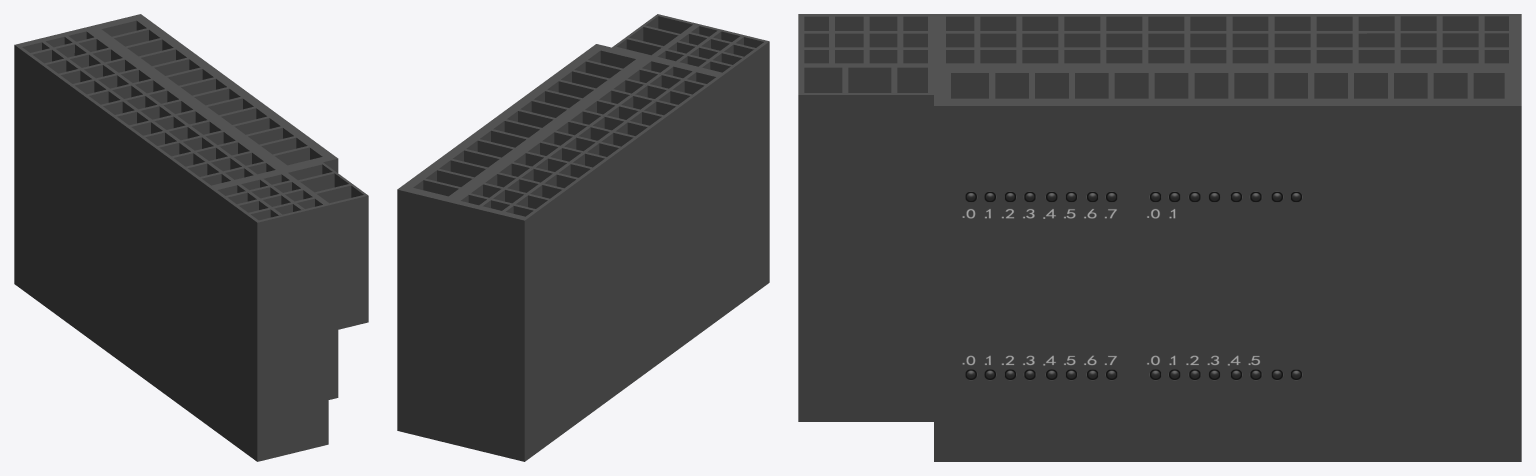
3 renders of one model, left to right at view 1: azimuth 30°, elevation 25°; view 2: azimuth 150°, elevation 25°; view 3: azimuth 270°, elevation 25°, orthographic. The views are drawn at different scales.
Visible parts, largest first — view 1: Io; view 2: Io; view 3: Io.
Boxes of the visible parts, x1,y1,x2,y2 form: Io: (14, 14, 368, 461); Io: (397, 14, 769, 461); Io: (798, 14, 1521, 461).
Size of the model in its own units: 0.0687 by 0.1217 by 0.2241.
Materials: 2 (1 with a texture image).
